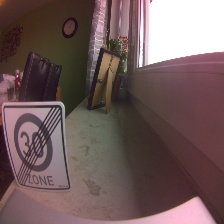dreisiger_zone_ende: (1, 102, 73, 192)
